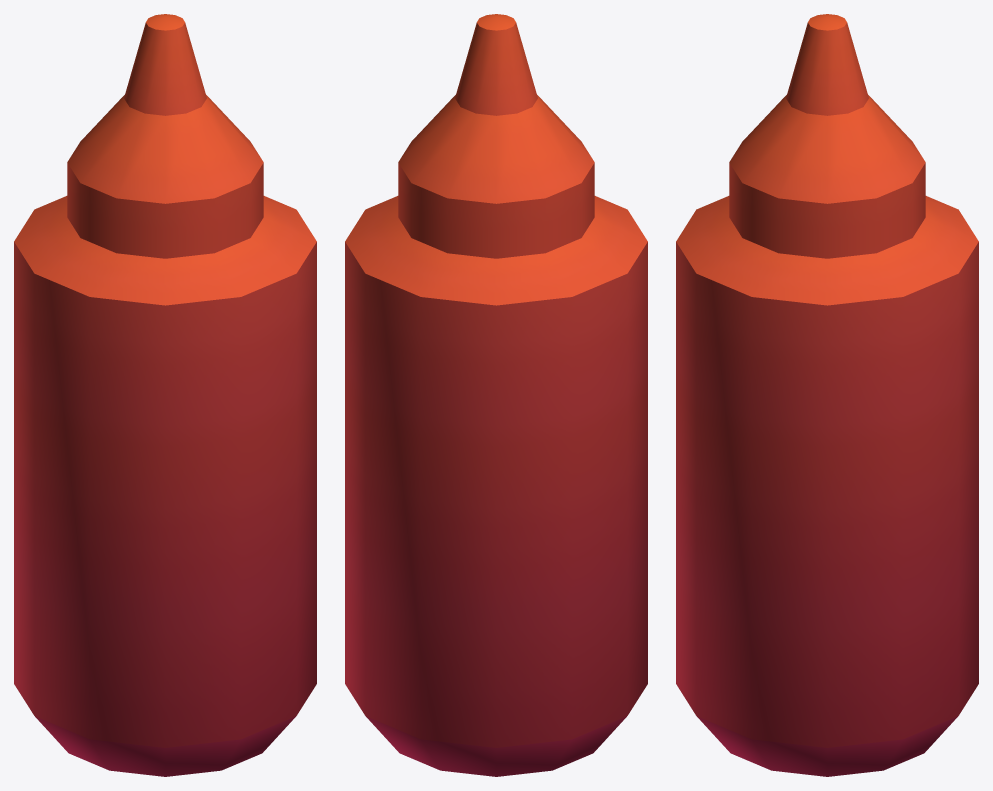
The model's file is ketchupflaska.glb.
The picture shows the model from 3 angles, left to right: view 1: azimuth 30°, elevation 25°; view 2: azimuth 150°, elevation 25°; view 3: azimuth 270°, elevation 25°; orthographic projection.
Visible parts, largest first — view 1: ketchup; view 2: ketchup; view 3: ketchup.
Part boxes in pixels (bbox=[...]): ketchup: bbox=[14, 14, 316, 776]; ketchup: bbox=[345, 14, 647, 776]; ketchup: bbox=[676, 14, 978, 776].
Size of the model in its own units: 0.3 by 0.7785 by 0.3.
Materials: 1 (1 with a texture image).
